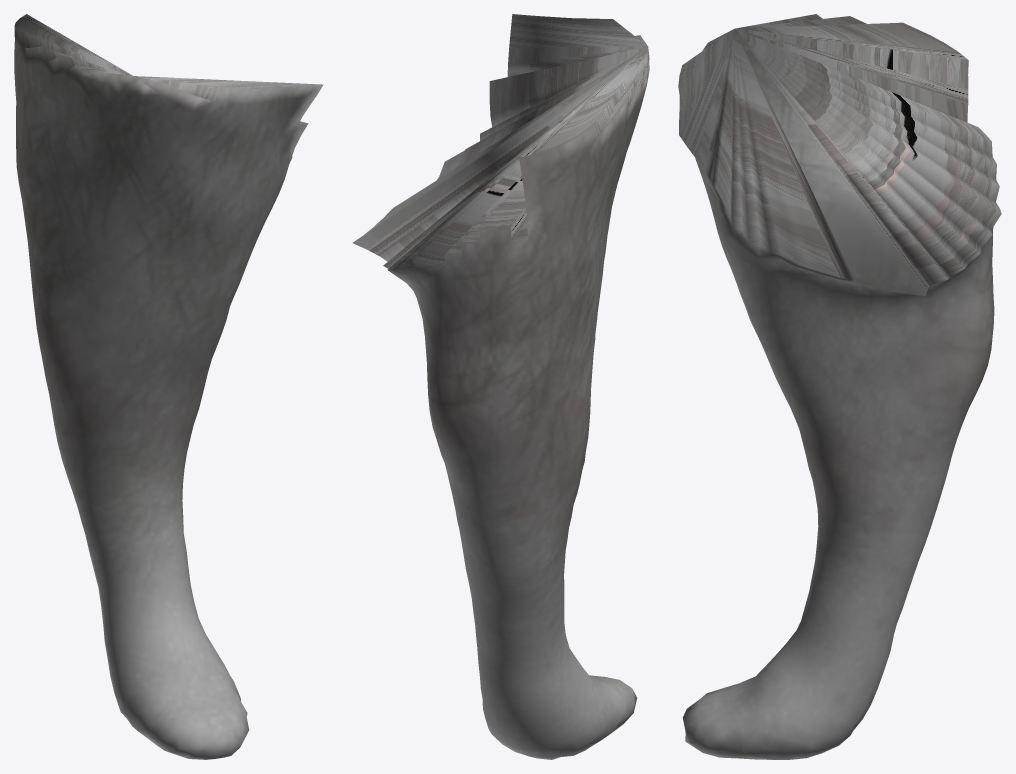
Rendered from pataD_Right.obj.
The picture shows the model from 3 angles, left to right: view 1: azimuth 30°, elevation 25°; view 2: azimuth 150°, elevation 25°; view 3: azimuth 270°, elevation 25°; orthographic projection.
Parts seen in each view (by area): view 1: pataD_Right; view 2: pataD_Right; view 3: pataD_Right.
Part boxes in pixels (x1=…): pataD_Right: x1=14, y1=14, x2=323, y2=759; pataD_Right: x1=352, y1=14, x2=649, y2=759; pataD_Right: x1=678, y1=14, x2=1001, y2=759.
Bounding box in the file's own units: 1.2 × 3.42 × 1.46.
Materials: 1 (1 with a texture image).
